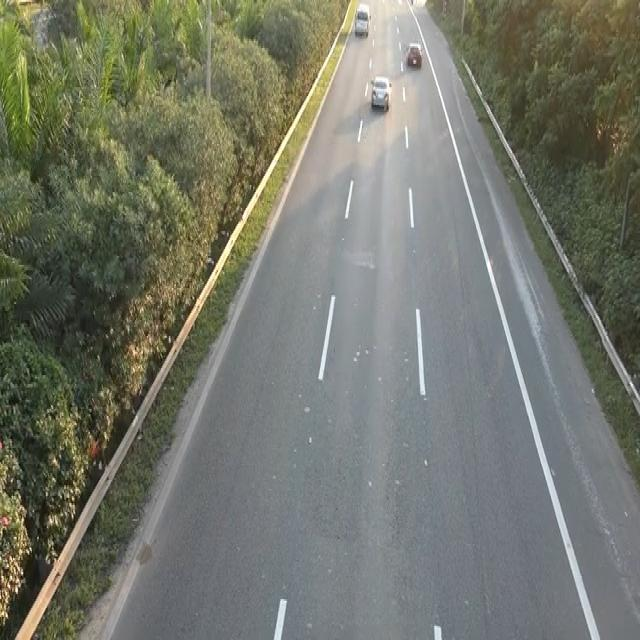bus: (368, 71, 395, 117), (405, 39, 422, 68)
jeep: (353, 2, 371, 37)
